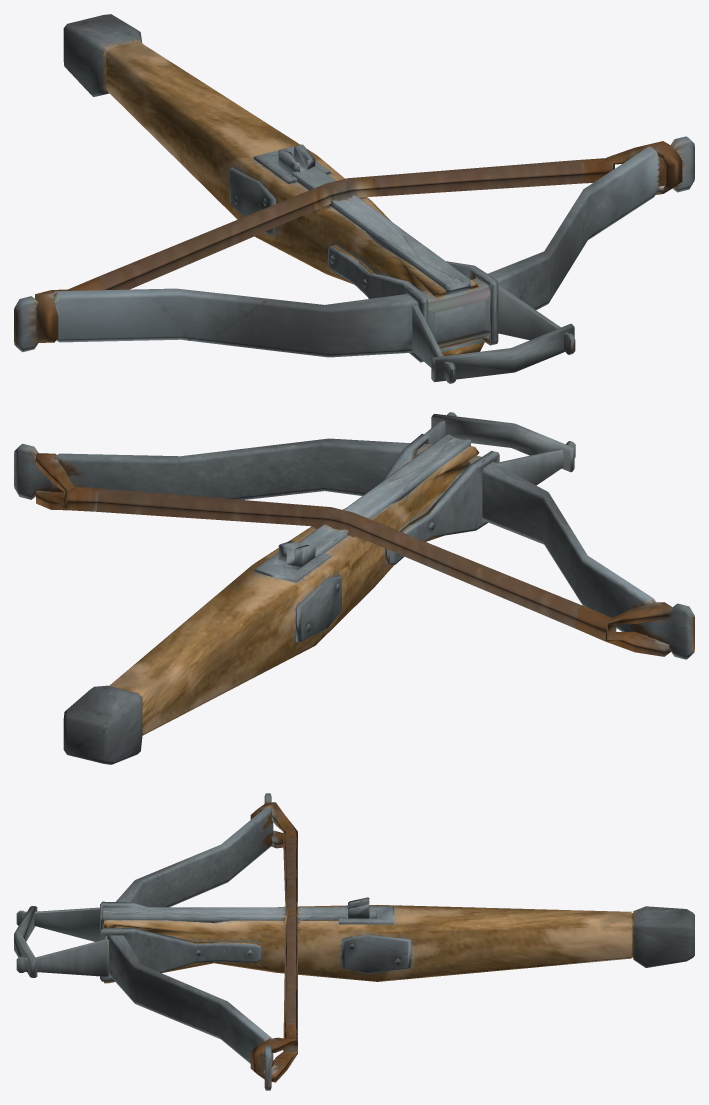
File: Crossbow.fbx
3 views of the same model, one above another, from view 1: azimuth 30°, elevation 25°; view 2: azimuth 150°, elevation 25°; view 3: azimuth 270°, elevation 25° (orthographic). The views are drawn at different scales.
Visible parts, largest first — view 1: CrossBow; view 2: CrossBow; view 3: CrossBow.
Boxes of the visible parts, x1,y1,x2,y2 form: CrossBow: (14, 14, 694, 383); CrossBow: (14, 412, 694, 764); CrossBow: (14, 793, 694, 1090).
Bounding box in the file's own units: 134 × 17.96 × 147.
